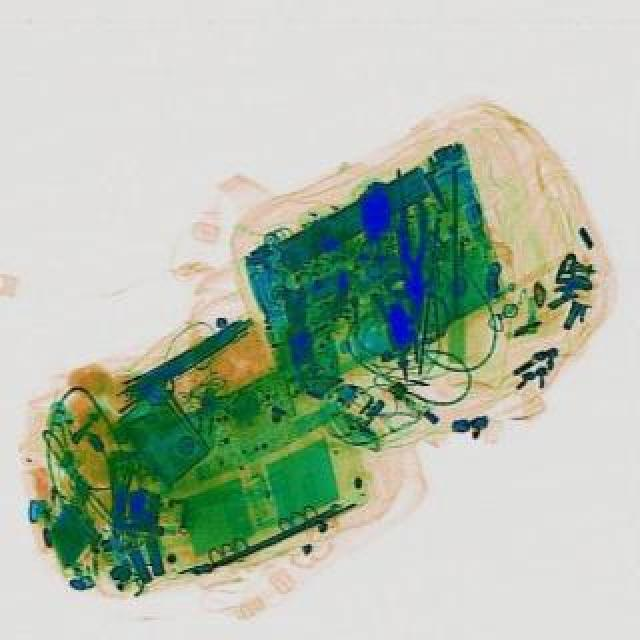wrench: (396, 200, 432, 328)
